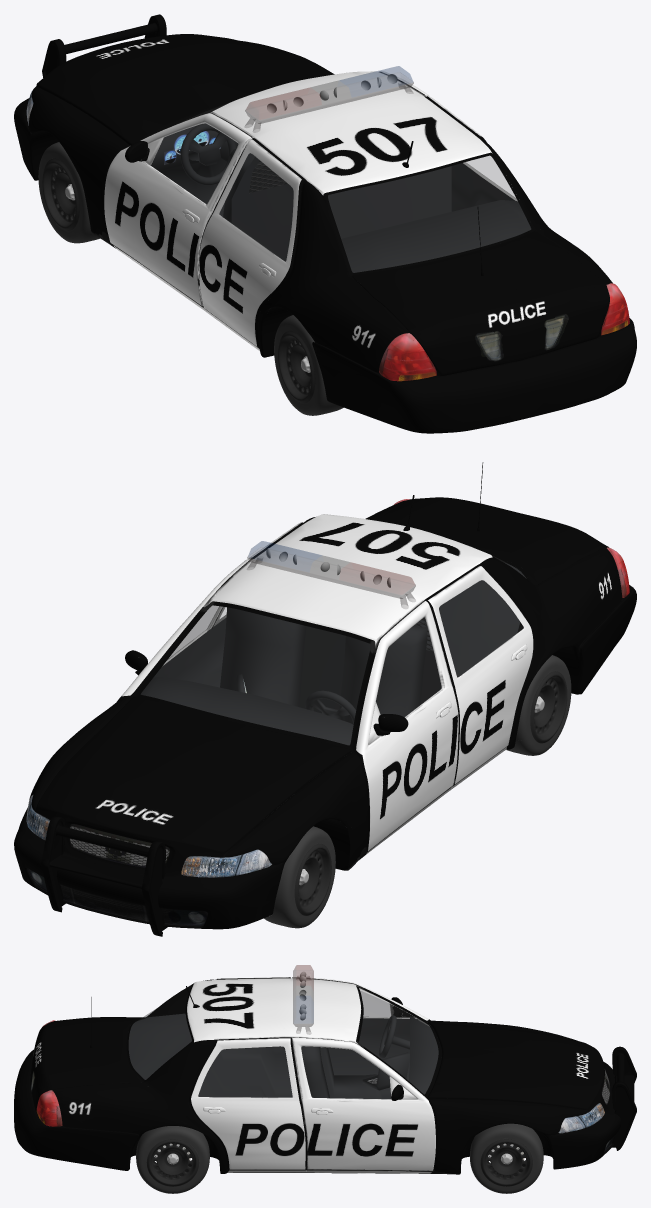
The model's file is police_car.glb.
The picture shows the model from 3 angles, top to bottom: view 1: azimuth 30°, elevation 25°; view 2: azimuth 150°, elevation 25°; view 3: azimuth 270°, elevation 25°; orthographic projection. The views are drawn at different scales.
Visible parts, largest first — view 1: CrownVic.Body, windows glass, interior, Roof light bar, CrownVic.Wheel.Bk.L, CrownVic.Wheel.Ft.L; view 2: CrownVic.Body, windows glass, interior, CrownVic.Wheel.Ft.L, Roof light bar, CrownVic.Wheel.Bk.L; view 3: CrownVic.Body, windows glass, interior, CrownVic.Wheel.Ft.R, CrownVic.Wheel.Bk.R, Roof light bar.
Part boxes in pixels (x1,y1,x2,y2): CrownVic.Body: (14, 14, 636, 433); windows glass: (151, 103, 530, 272); interior: (151, 112, 540, 300); Roof light bar: (245, 66, 413, 132); CrownVic.Wheel.Bk.L: (274, 315, 343, 415); CrownVic.Wheel.Ft.L: (38, 142, 99, 243); CrownVic.Body: (14, 462, 636, 936); windows glass: (141, 556, 525, 744); interior: (140, 562, 526, 827); CrownVic.Wheel.Ft.L: (264, 826, 335, 928); Roof light bar: (247, 541, 415, 608); CrownVic.Wheel.Bk.L: (507, 655, 571, 755); CrownVic.Body: (14, 977, 636, 1174); windows glass: (129, 985, 438, 1098); interior: (128, 1013, 438, 1169); CrownVic.Wheel.Ft.R: (470, 1123, 543, 1193); CrownVic.Wheel.Bk.R: (136, 1126, 209, 1193); Roof light bar: (293, 965, 313, 1034).
Bounding box in the file's own units: 1.08 × 0.8678 × 2.93.
Materials: 7 (5 with a texture image).
